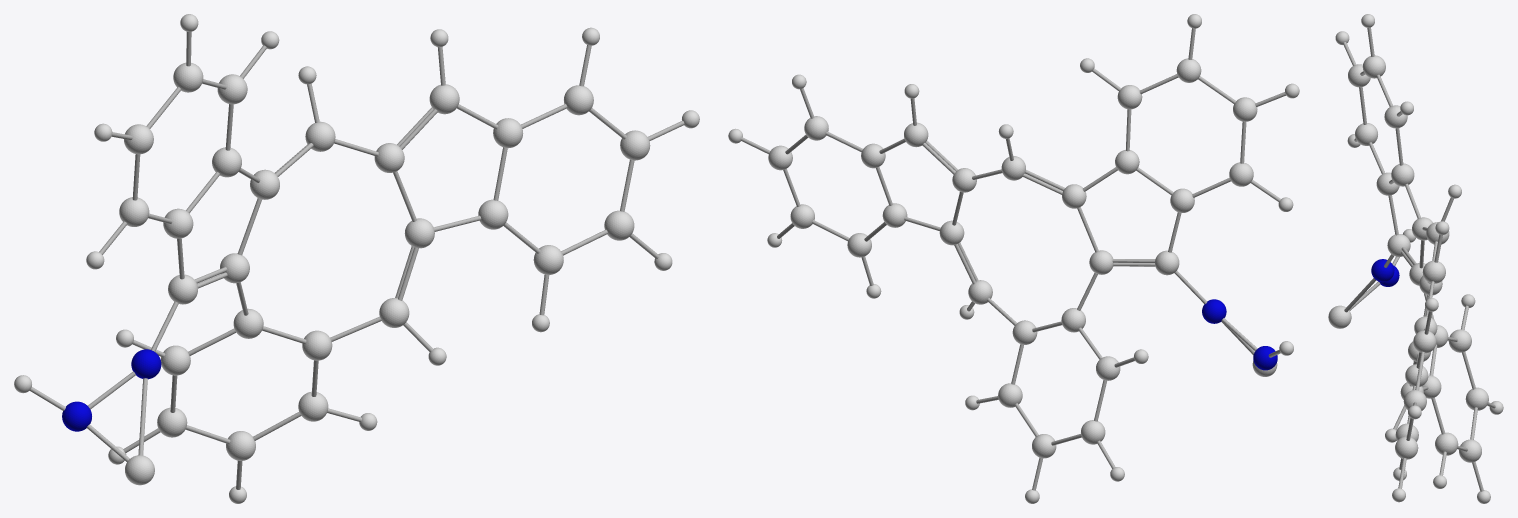
3 renders of one model, left to right at view 1: azimuth 30°, elevation 25°; view 2: azimuth 150°, elevation 25°; view 3: azimuth 270°, elevation 25°, orthographic. The views are drawn at different scales.
Parts seen in each view (by area): view 1: world; view 2: world; view 3: world.
Part boxes in pixels (bbox=[...]): world: bbox=[14, 14, 699, 503]; world: bbox=[728, 14, 1299, 503]; world: bbox=[1328, 14, 1503, 503].
Bounding box in the file's own units: 13.17 × 10.51 × 3.77.
